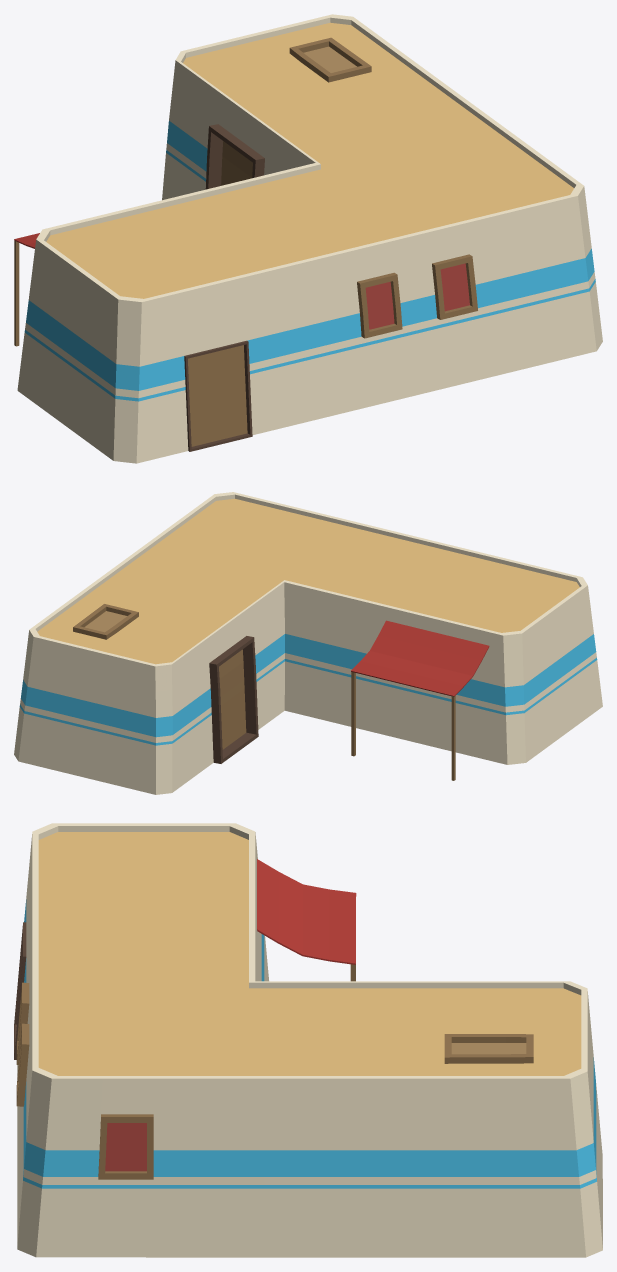
File: House.fbx
The picture shows the model from 3 angles, top to bottom: view 1: azimuth 30°, elevation 25°; view 2: azimuth 150°, elevation 25°; view 3: azimuth 270°, elevation 25°; orthographic projection. The views are drawn at different scales.
Parts seen in each view (by area): view 1: House; view 2: House; view 3: House.
Boxes of the visible parts, <box> form: House: <box>14,14,602,463</box>; House: <box>14,492,602,794</box>; House: <box>14,823,602,1257</box>.
Size of the model in its own units: 2204 by 662 by 2045.
